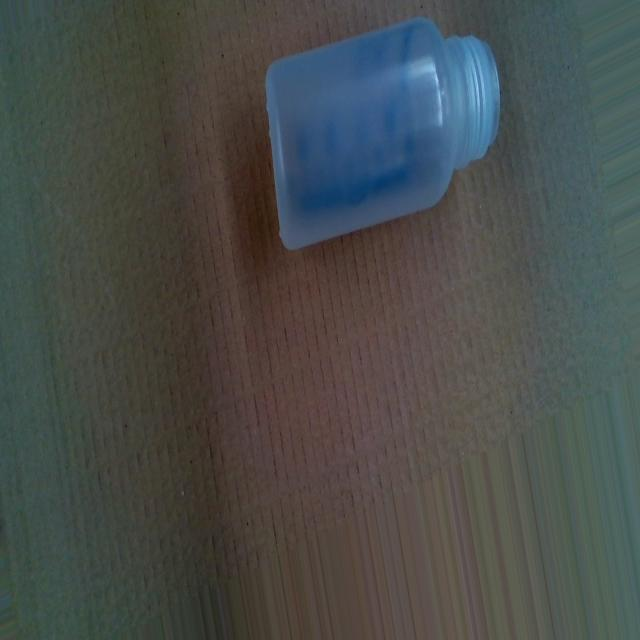bottle: (262, 15, 503, 253)
